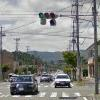traffic lights: (38, 12, 56, 19), (49, 19, 57, 26)
